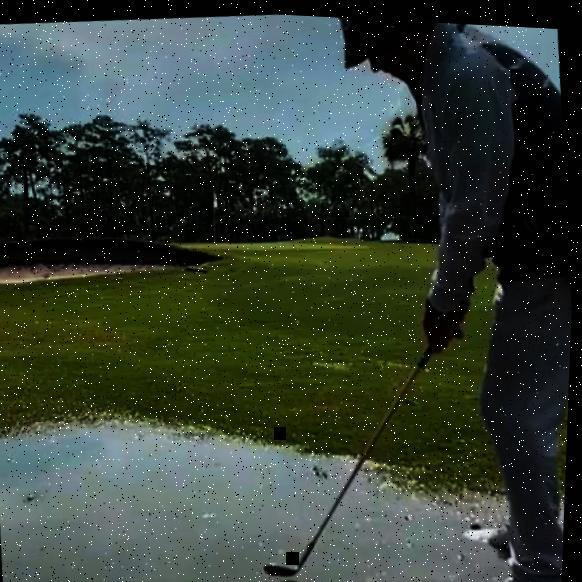ClubHead: (267, 559, 298, 574)
